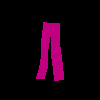pantaloni: (35, 22, 64, 80)
